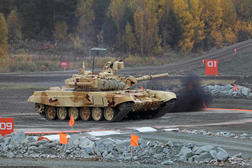t72: (29, 69, 178, 123)
